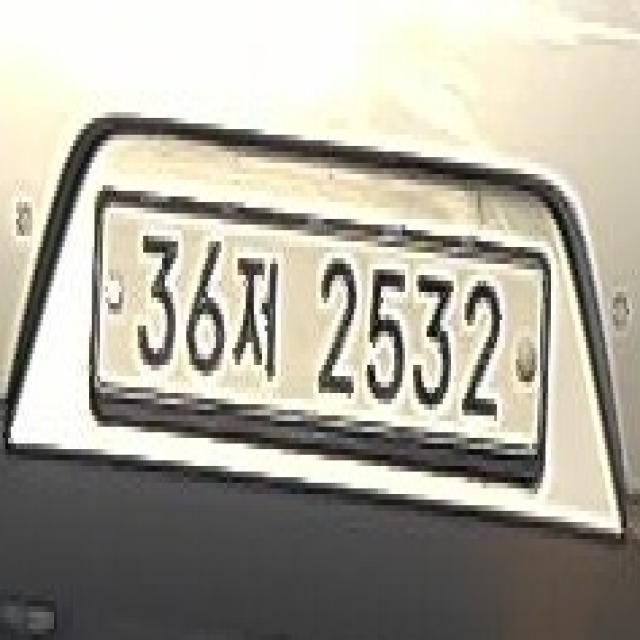2: (459, 275, 502, 421), (316, 258, 359, 399)
3: (140, 230, 183, 376), (413, 275, 451, 410)
5: (365, 264, 405, 410)
6: (184, 230, 226, 376)
jeo: (230, 247, 278, 382)
license_plate: (94, 191, 546, 466)
